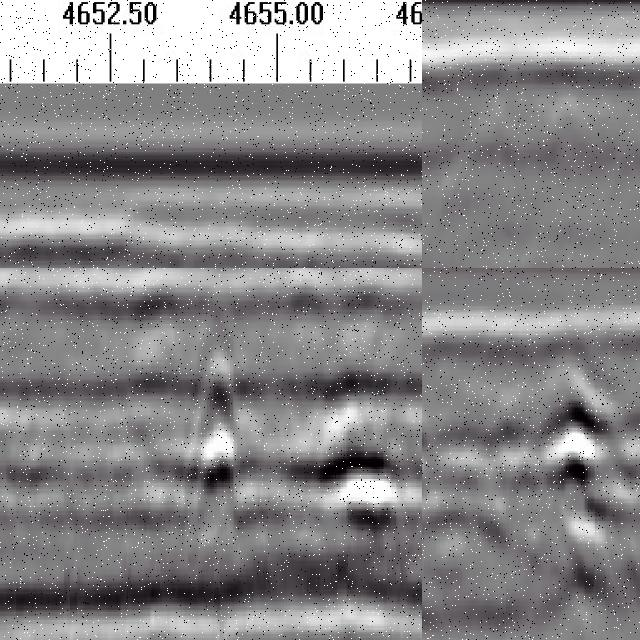loose: (160, 319, 420, 562), (471, 373, 640, 586)
